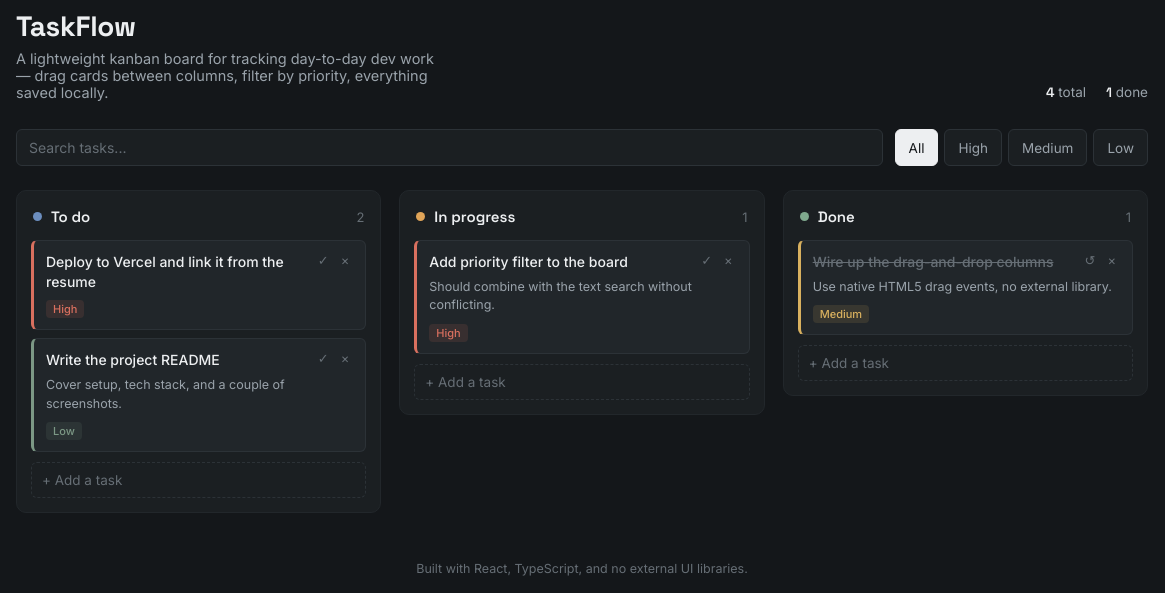
Test case: TaskFlow board › filters tasks by search query
Type "zzz-no-match-zzz" into the field labelled "Search tasks" at x=449, y=148, box left=16, top=129, right=883, bottom=166
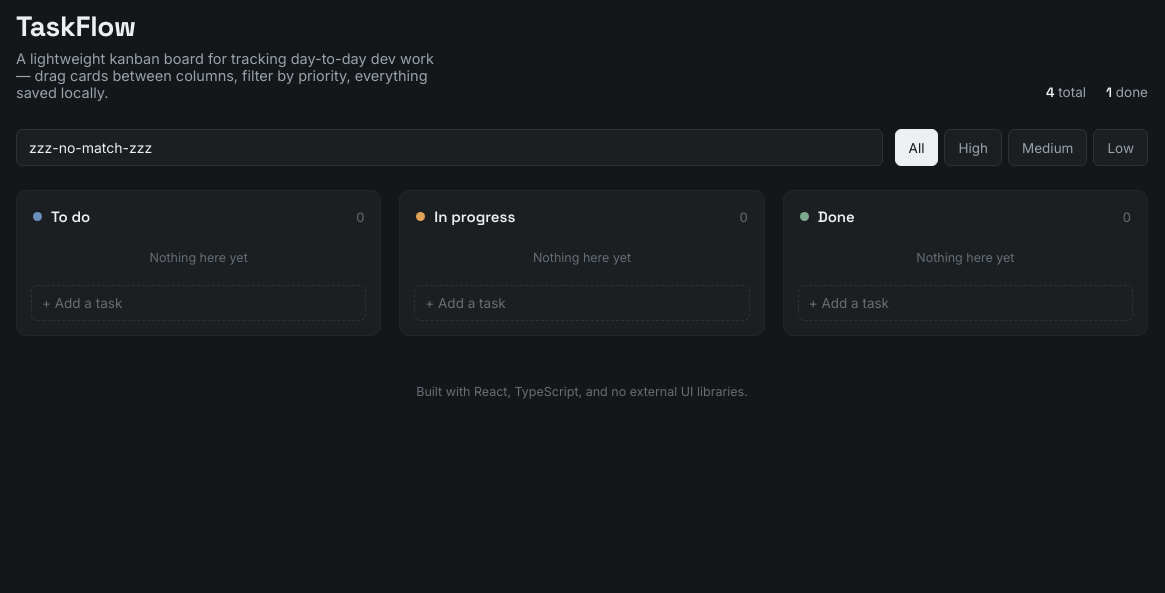
Now the text "Write the project README" is gone
